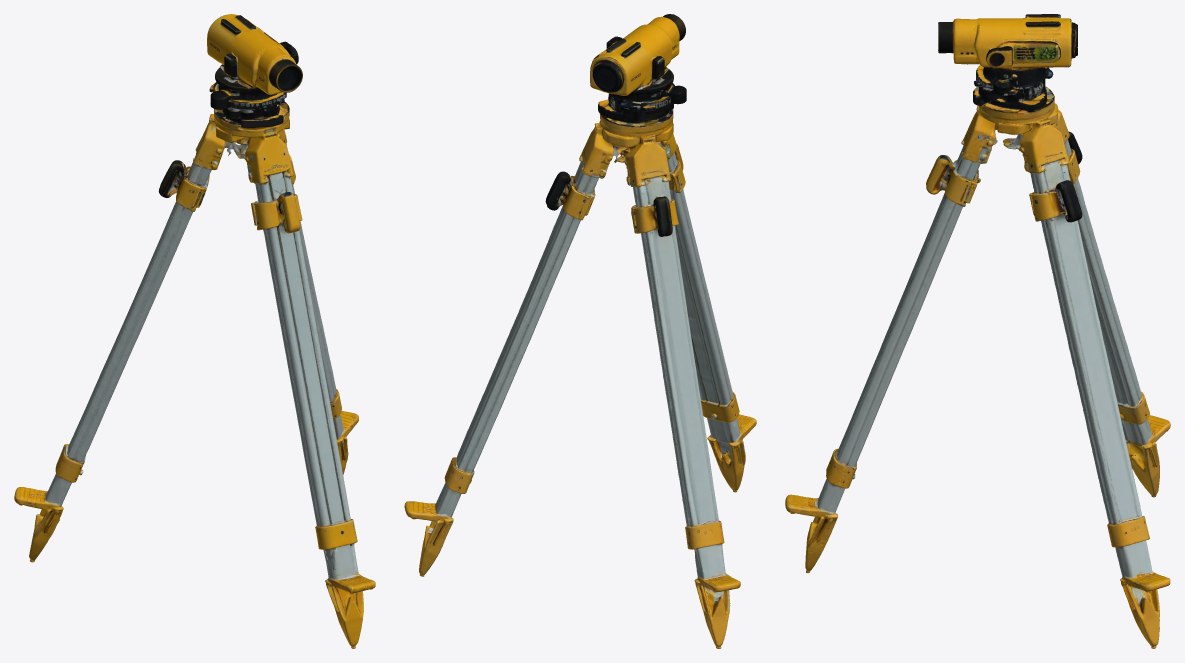
The model's file is level.glb.
3 renders of one model, left to right at view 1: azimuth 30°, elevation 25°; view 2: azimuth 150°, elevation 25°; view 3: azimuth 270°, elevation 25°, orthographic. The views are drawn at different scales.
Parts seen in each view (by area): view 1: input; view 2: input; view 3: input.
Boxes of the visible parts, bbox=[...] form: input: bbox=[14, 14, 375, 648]; input: bbox=[404, 14, 756, 648]; input: bbox=[785, 14, 1170, 648].
Bounding box in the file's own units: 0.6628 × 1 × 0.6304.
1 material, 1 textured.
